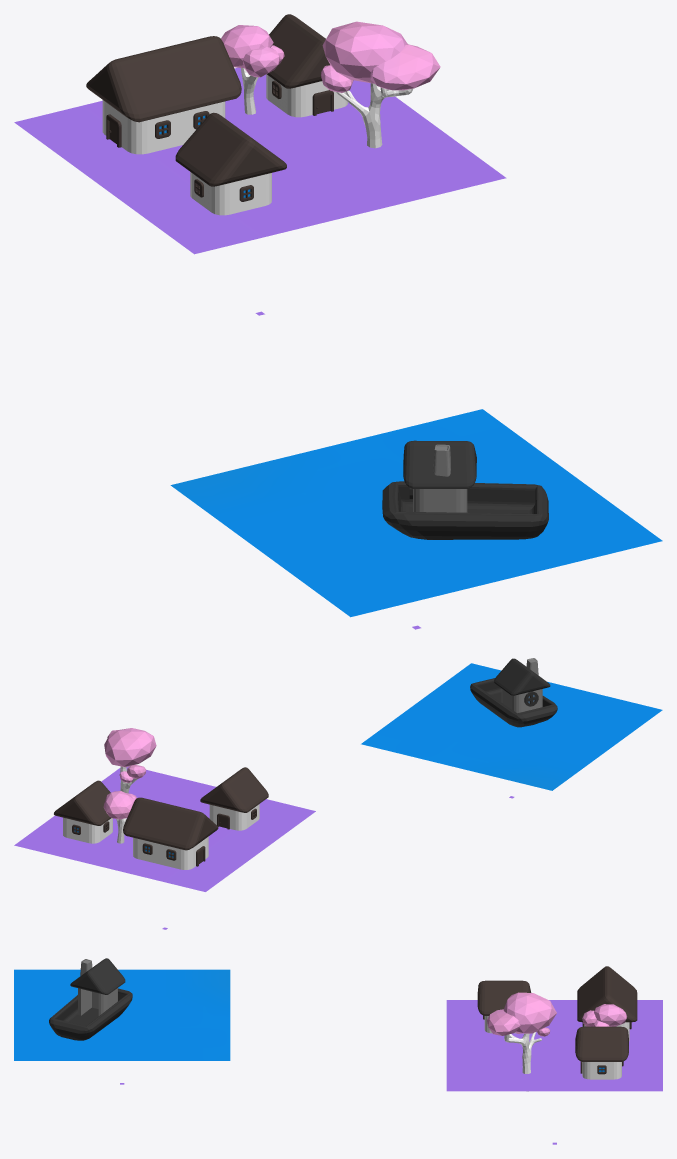
File: WaveFunctionCollapseVariant.fbx
3 views of the same model, one above another, from view 1: azimuth 30°, elevation 25°; view 2: azimuth 150°, elevation 25°; view 3: azimuth 270°, elevation 25° (orthographic). The views are drawn at different scales.
Visible parts, largest first — view 1: Mesh9.001, Mesh12.001; view 2: Mesh9.001, Mesh12.001; view 3: Mesh9.001, Mesh12.001.
Part boxes in pixels (x1,y1,x2,y2): Mesh9.001: [14, 14, 506, 315]; Mesh12.001: [170, 409, 662, 629]; Mesh9.001: [14, 728, 315, 929]; Mesh12.001: [361, 658, 662, 798]; Mesh9.001: [446, 966, 662, 1144]; Mesh12.001: [14, 958, 230, 1084].
Bounding box in the file's own units: 331 × 174 × 600.
